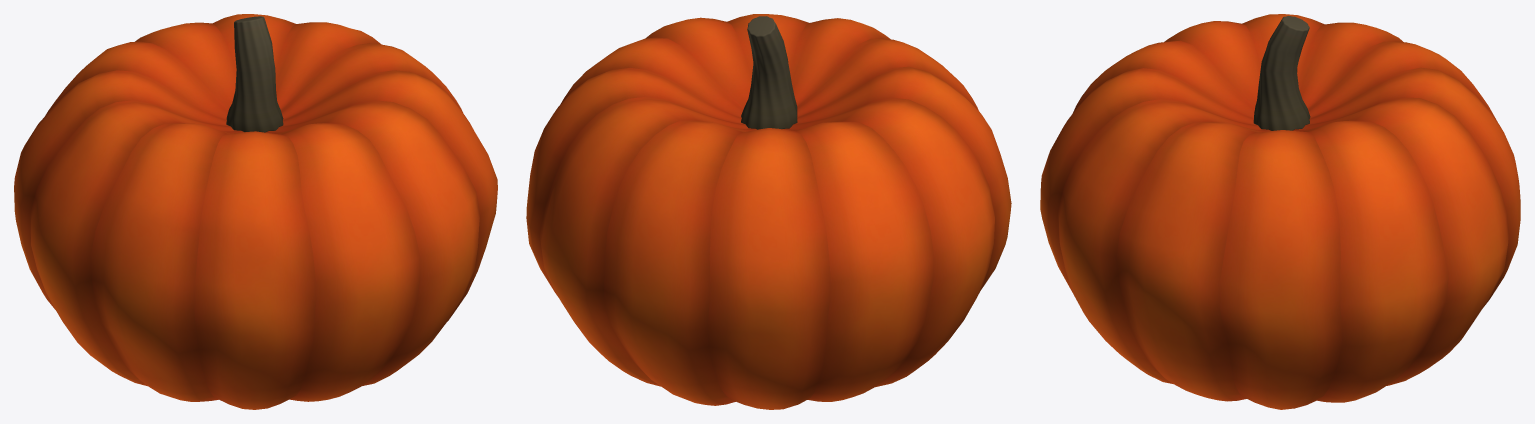
The model's file is pumpkin_small_04.obj.
3 renders of one model, left to right at view 1: azimuth 30°, elevation 25°; view 2: azimuth 150°, elevation 25°; view 3: azimuth 270°, elevation 25°, orthographic.
Parts seen in each view (by area): view 1: pumpkin_small_004; view 2: pumpkin_small_004; view 3: pumpkin_small_004.
Boxes of the visible parts, left/top/right/bottom form: pumpkin_small_004: left=14, top=14, right=497, bottom=409; pumpkin_small_004: left=526, top=14, right=1011, bottom=409; pumpkin_small_004: left=1040, top=14, right=1520, bottom=409.
Size of the model in its own units: 3.39 by 2.71 by 3.39.
Materials: 1 (1 with a texture image).
